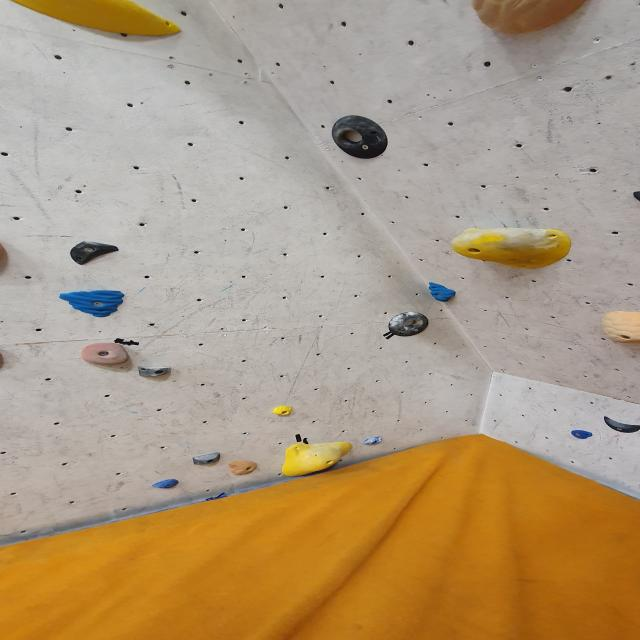Crimp: (58, 290, 126, 316), (428, 283, 457, 303), (150, 480, 180, 491), (568, 428, 594, 439), (362, 438, 382, 447)
Jug: (80, 343, 131, 368)
Pinch: (138, 364, 174, 378), (192, 452, 224, 466)
Pocket: (326, 112, 398, 161), (386, 312, 431, 338)
Sloper: (0, 0, 186, 39), (452, 226, 576, 268), (467, 0, 597, 38), (280, 441, 356, 479), (600, 312, 640, 346), (70, 240, 122, 264), (598, 414, 640, 434), (267, 404, 302, 420), (228, 460, 260, 476)
